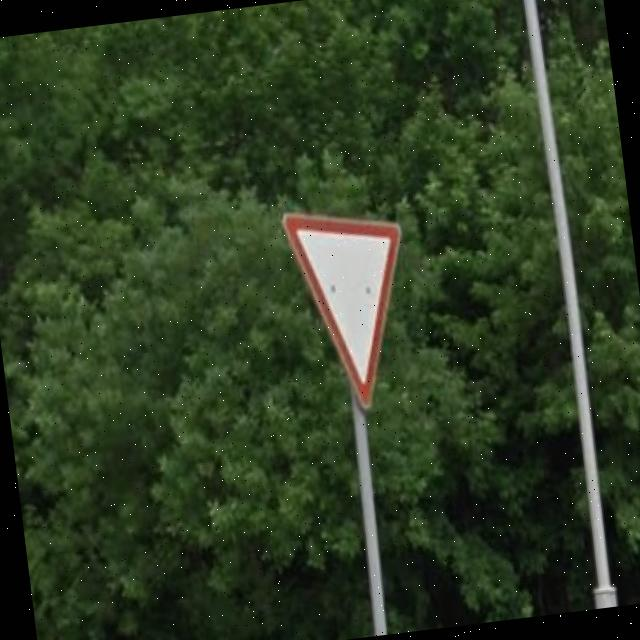Ustap pierwszenstwa: (281, 196, 423, 418)
